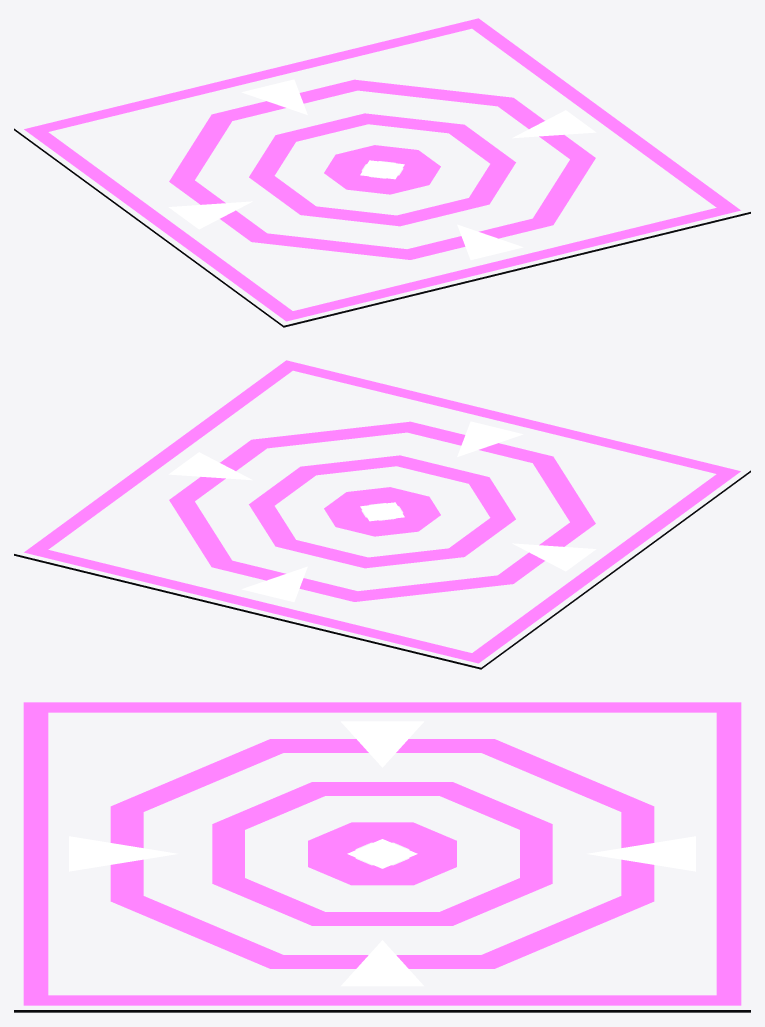
File: OVL_Arena_Active_MagneticAnchor.glb
3 views of the same model, one above another, from view 1: azimuth 30°, elevation 25°; view 2: azimuth 150°, elevation 25°; view 3: azimuth 270°, elevation 25° (orthographic). The views are drawn at different scales.
Parts seen in each view (by area): view 1: OVL_ActiveMag_Border, OVL_ActiveMag_OuterRing, OVL_ActiveMag_InnerRing, OVL_ActiveMag_InwardVectors, OVL_ActiveMag_AnchorCore, OVL_Carrier_ActiveMagAnchor, OVL_ActiveMag_AnchorCenter; view 2: OVL_ActiveMag_Border, OVL_ActiveMag_OuterRing, OVL_ActiveMag_InnerRing, OVL_ActiveMag_InwardVectors, OVL_ActiveMag_AnchorCore, OVL_Carrier_ActiveMagAnchor, OVL_ActiveMag_AnchorCenter; view 3: OVL_ActiveMag_Border, OVL_ActiveMag_OuterRing, OVL_ActiveMag_InnerRing, OVL_ActiveMag_InwardVectors, OVL_ActiveMag_AnchorCore, OVL_Carrier_ActiveMagAnchor, OVL_ActiveMag_AnchorCenter.
Part boxes in pixels (<box>): OVL_ActiveMag_Border: <box>24,18,740,321</box>; OVL_ActiveMag_OuterRing: <box>169,79,595,259</box>; OVL_ActiveMag_InnerRing: <box>249,113,515,226</box>; OVL_ActiveMag_InwardVectors: <box>168,79,596,259</box>; OVL_ActiveMag_AnchorCore: <box>324,145,440,194</box>; OVL_Carrier_ActiveMagAnchor: <box>14,128,750,327</box>; OVL_ActiveMag_AnchorCenter: <box>360,160,404,179</box>; OVL_ActiveMag_Border: <box>24,360,740,663</box>; OVL_ActiveMag_OuterRing: <box>169,421,595,601</box>; OVL_ActiveMag_InnerRing: <box>249,455,515,568</box>; OVL_ActiveMag_InwardVectors: <box>168,421,596,601</box>; OVL_ActiveMag_AnchorCore: <box>324,487,440,536</box>; OVL_Carrier_ActiveMagAnchor: <box>14,470,750,669</box>; OVL_ActiveMag_AnchorCenter: <box>360,502,404,521</box>; OVL_ActiveMag_Border: <box>23,702,741,1005</box>; OVL_ActiveMag_OuterRing: <box>110,739,654,968</box>; OVL_ActiveMag_InnerRing: <box>212,782,552,925</box>; OVL_ActiveMag_InwardVectors: <box>69,721,695,986</box>; OVL_ActiveMag_AnchorCore: <box>308,822,456,885</box>; OVL_Carrier_ActiveMagAnchor: <box>14,1010,750,1012</box>; OVL_ActiveMag_AnchorCenter: <box>347,839,417,868</box>.
Size of the model in its own units: 11.4 by 0.05 by 11.4.
3 materials, 3 textured.
